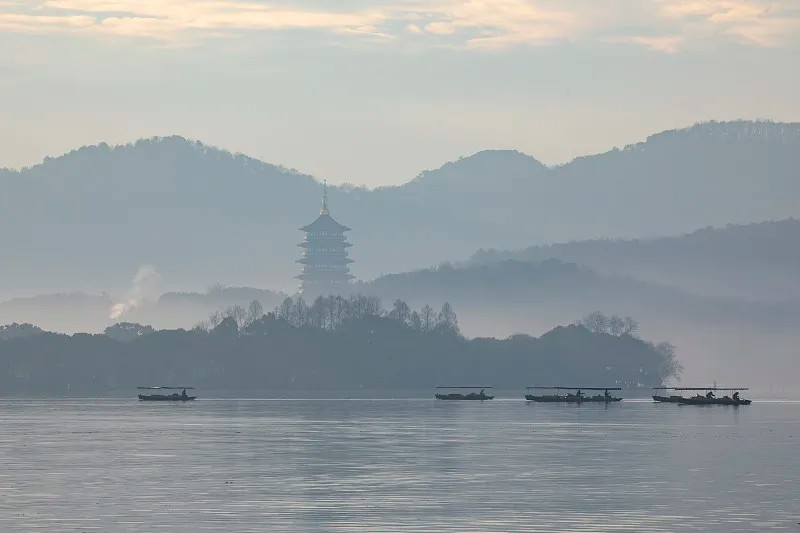Leifeng: (293, 175, 357, 308)
